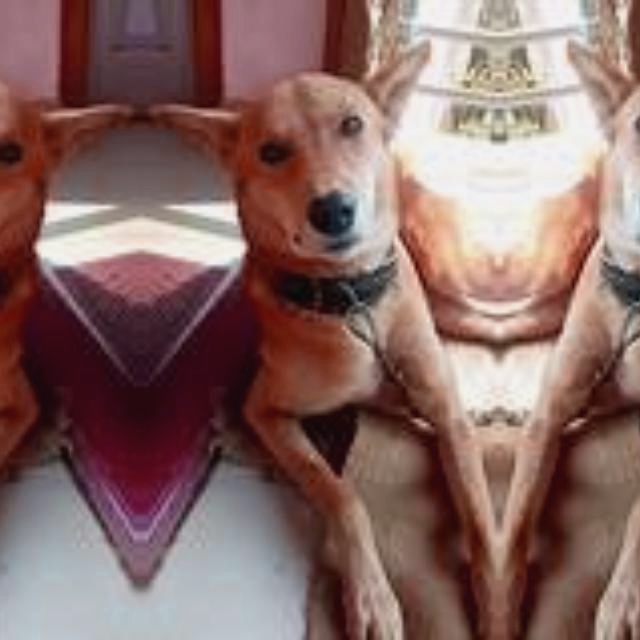dog: (198, 30, 486, 475), (514, 30, 640, 475), (0, 30, 86, 475)
